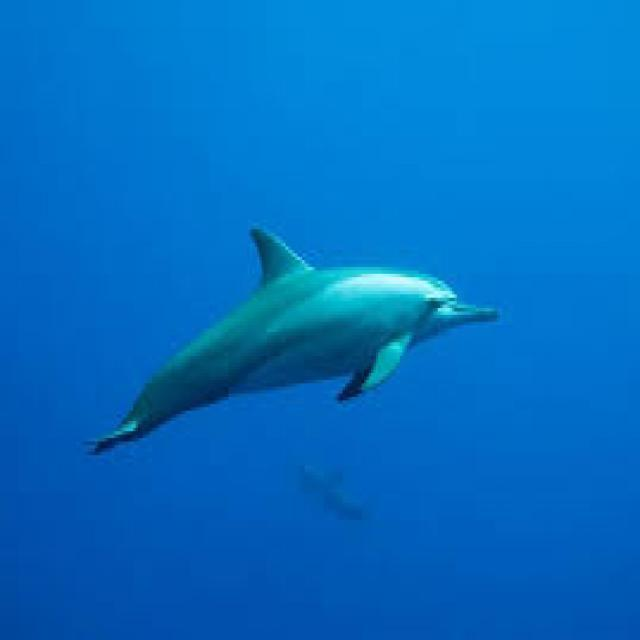dolphin: (64, 198, 504, 554)
